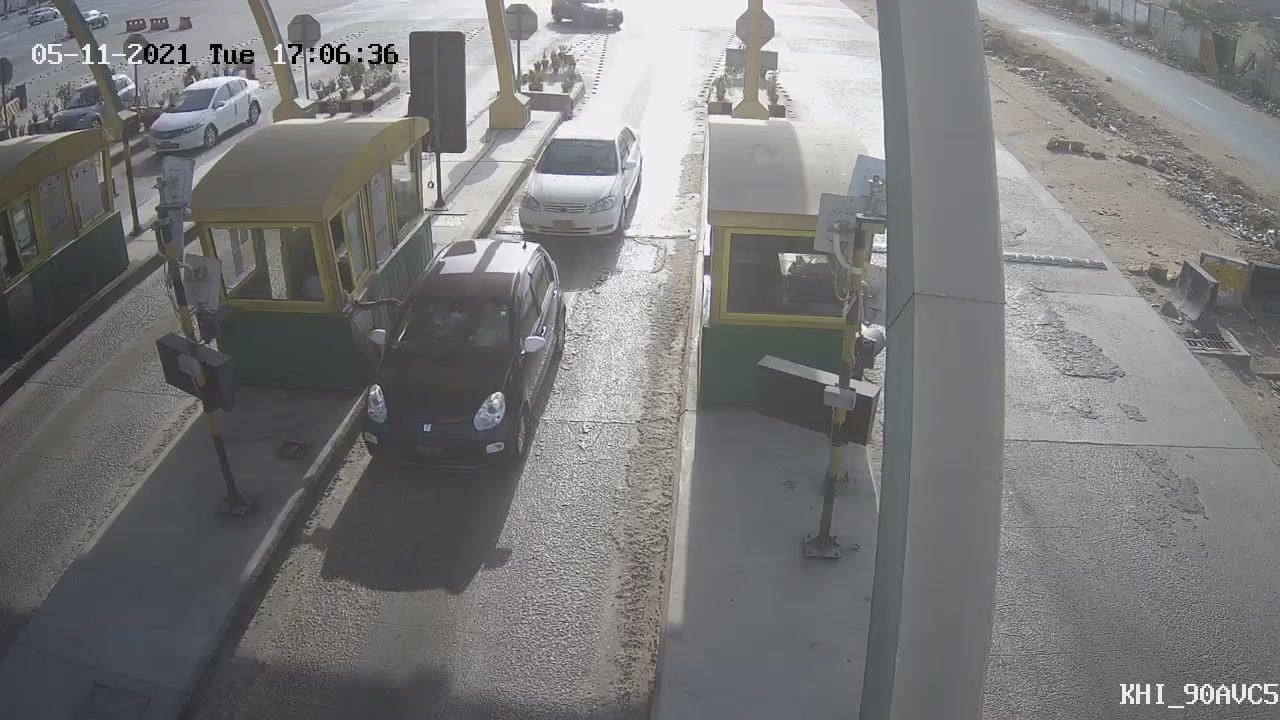F1: (327, 218, 590, 500), (500, 101, 663, 257)
